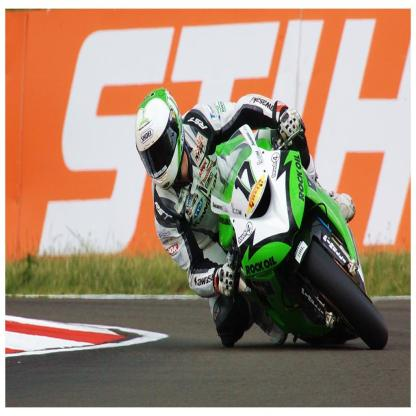Helmet: (137, 94, 180, 192)
